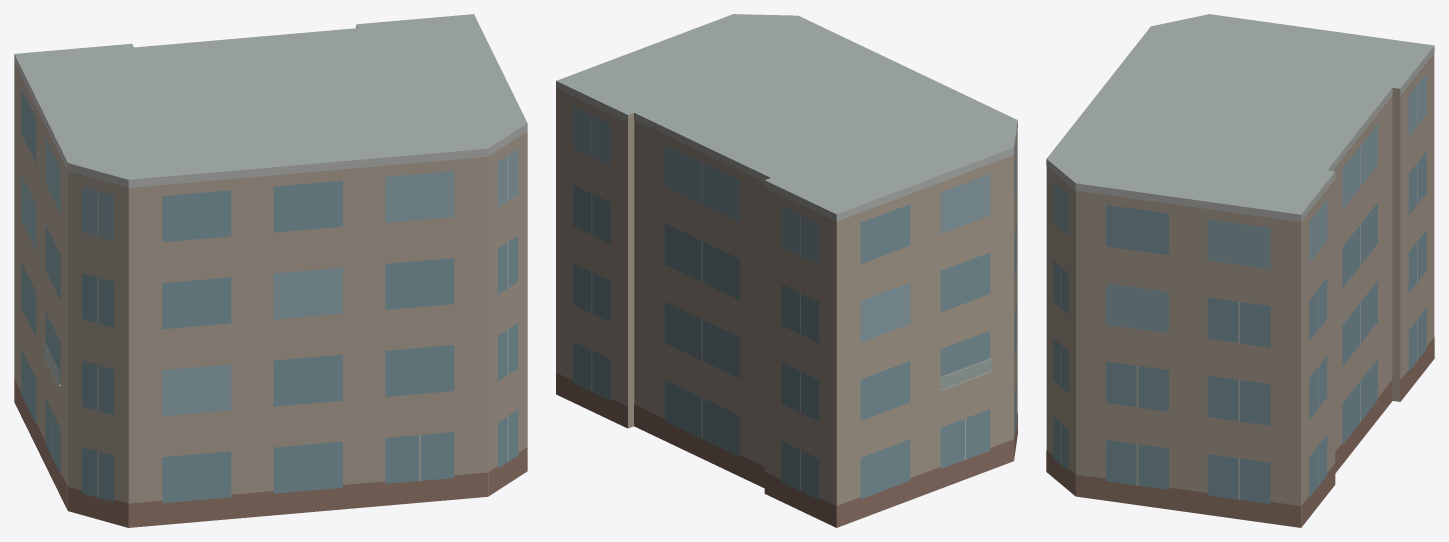
The model's file is survey-upis-32637031.glb.
The picture shows the model from 3 angles, left to right: view 1: azimuth 30°, elevation 25°; view 2: azimuth 150°, elevation 25°; view 3: azimuth 270°, elevation 25°; orthographic projection. The views are drawn at different scales.
Parts seen in each view (by area): view 1: survey-upis-32637031.tmp; view 2: survey-upis-32637031.tmp; view 3: survey-upis-32637031.tmp.
Part boxes in pixels (<box>): survey-upis-32637031.tmp: <box>14,14,527,527</box>; survey-upis-32637031.tmp: <box>556,14,1017,527</box>; survey-upis-32637031.tmp: <box>1046,14,1434,527</box>.
Size of the model in its own units: 14.44 by 10.5 by 11.8.
